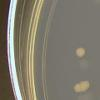yellow: (78, 79, 90, 93), (75, 47, 87, 59), (73, 82, 80, 92)
